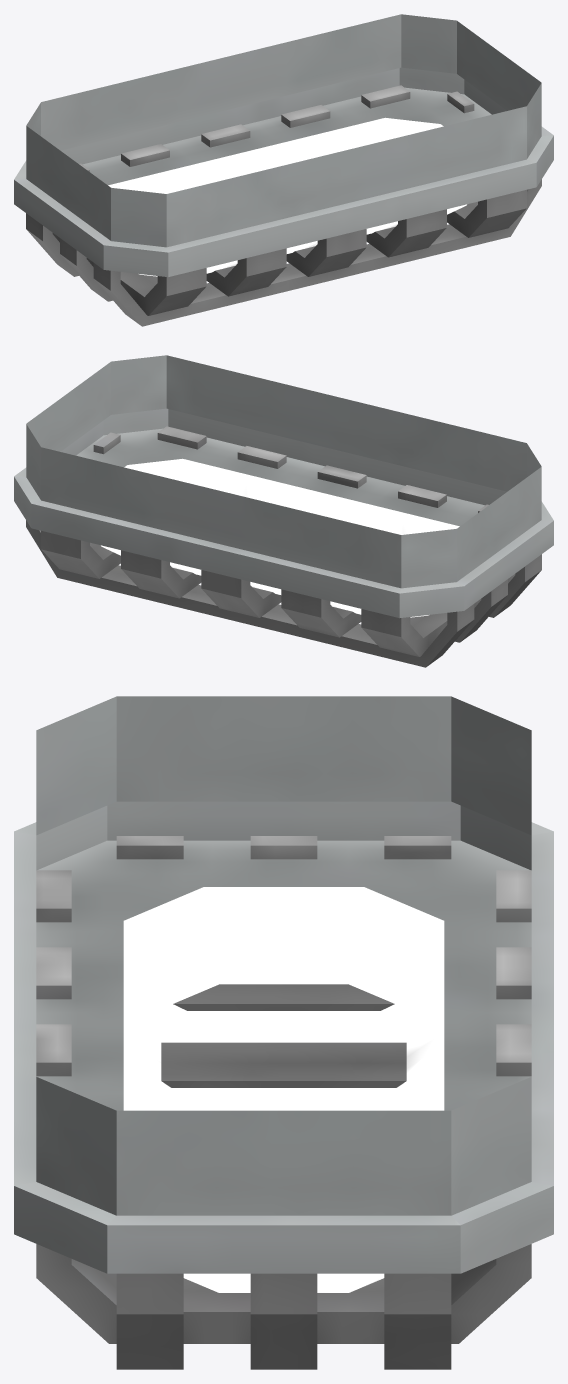
The model's file is Pfb_Jail_light.fbx.
3 renders of one model, top to bottom at view 1: azimuth 30°, elevation 25°; view 2: azimuth 150°, elevation 25°; view 3: azimuth 270°, elevation 25°, orthographic. The views are drawn at different scales.
Visible parts, largest first — view 1: MAT_Soda_Jail_Room; view 2: MAT_Soda_Jail_Room; view 3: MAT_Soda_Jail_Room.
Part boxes in pixels (left/top/right/bottom): MAT_Soda_Jail_Room: left=14, top=14, right=553, bottom=326; MAT_Soda_Jail_Room: left=14, top=355, right=553, bottom=667; MAT_Soda_Jail_Room: left=14, top=696, right=553, bottom=1369.
Bounding box in the file's own units: 0.7489 × 0.2328 × 0.3945.
Materials: 1 (1 with a texture image).
